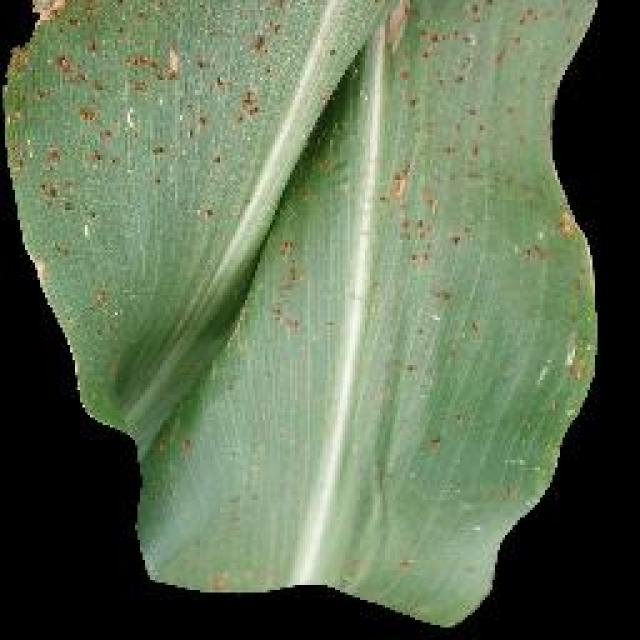Corn Common Rust: (57, 24, 453, 588)
